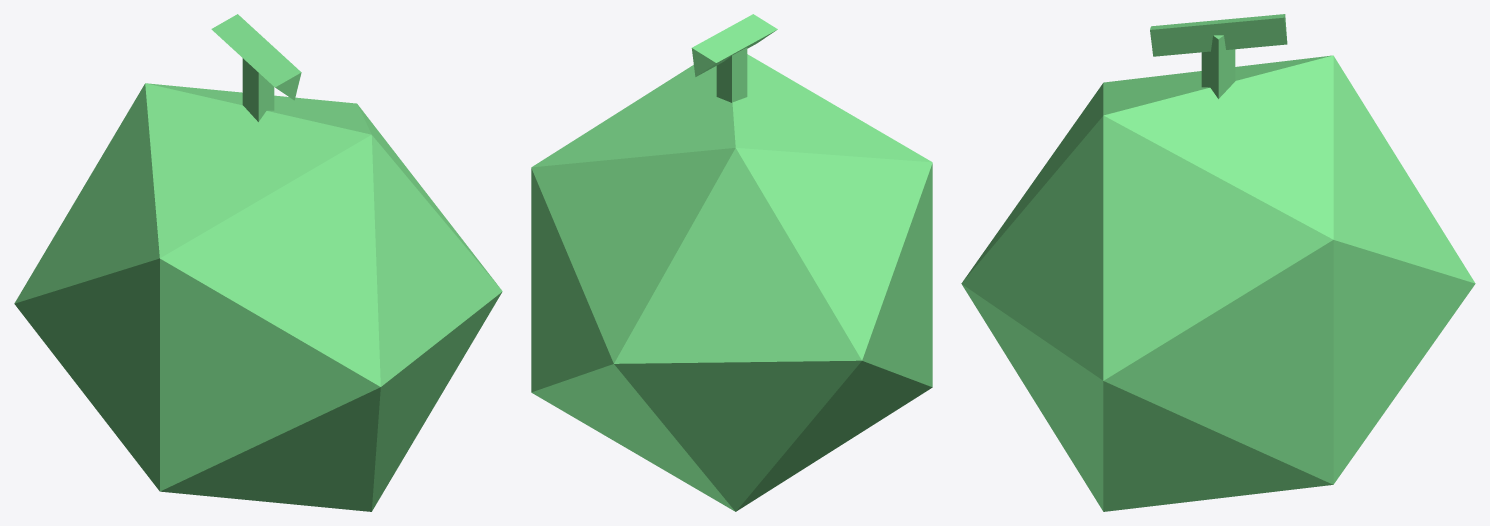
Rendered from 13_melon.fbx.
3 views of the same model, side by side, from view 1: azimuth 30°, elevation 25°; view 2: azimuth 150°, elevation 25°; view 3: azimuth 270°, elevation 25° (orthographic). The views are drawn at different scales.
Visible parts, largest first — view 1: pCylinder3; view 2: pCylinder3; view 3: pCylinder3.
Part boxes in pixels (x1=…): pCylinder3: x1=14, y1=14, x2=502, y2=511; pCylinder3: x1=531, y1=14, x2=932, y2=511; pCylinder3: x1=961, y1=14, x2=1475, y2=511.
Bounding box in the file's own units: 1.79 × 2.01 × 2.
